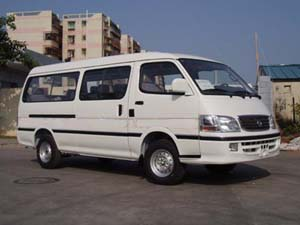midcar: (17, 48, 281, 185)
